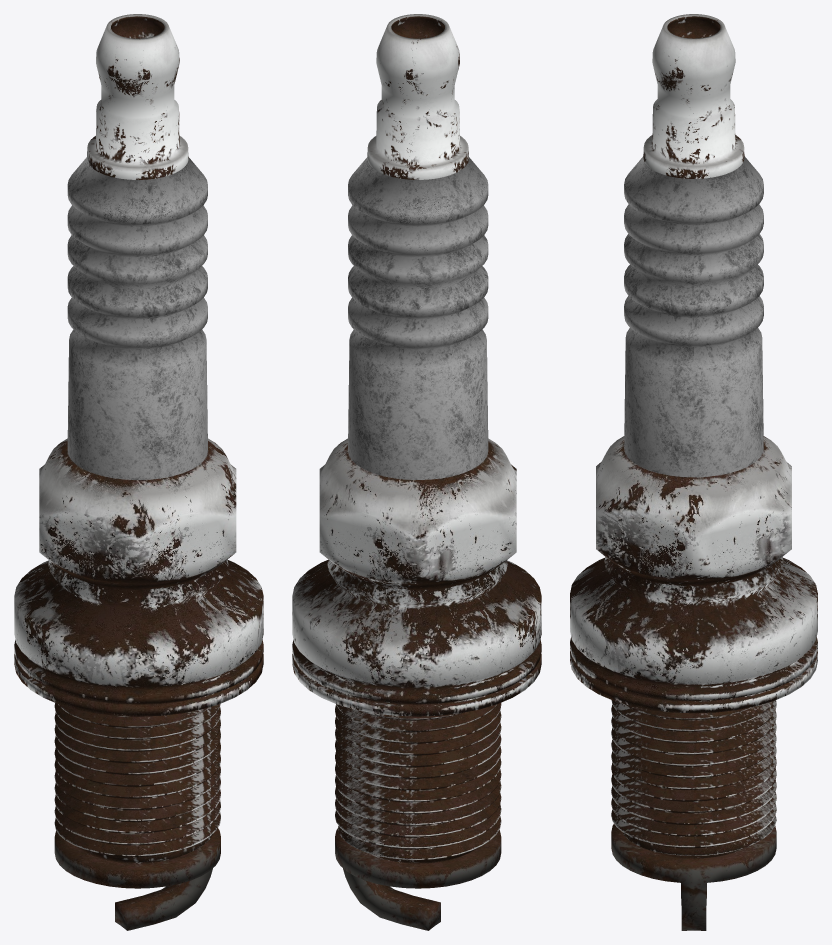
Rendered from plug_barbados.glb.
3 views of the same model, side by side, from view 1: azimuth 30°, elevation 25°; view 2: azimuth 150°, elevation 25°; view 3: azimuth 270°, elevation 25° (orthographic).
Visible parts, largest first — view 1: Object_3, Object_2, Object_6, Object_4, Object_5; view 2: Object_3, Object_2, Object_6, Object_4, Object_5; view 3: Object_3, Object_2, Object_6, Object_4, Object_5.
Part boxes in pixels (x1=…): Object_3: x1=14, y1=438, x2=263, y2=716; Object_2: x1=67, y1=157, x2=207, y2=479; Object_6: x1=54, y1=703, x2=220, y2=863; Object_4: x1=87, y1=14, x2=188, y2=179; Object_5: x1=54, y1=828, x2=220, y2=930; Object_3: x1=292, y1=438, x2=541, y2=716; Object_2: x1=348, y1=157, x2=488, y2=479; Object_6: x1=335, y1=703, x2=501, y2=863; Object_4: x1=367, y1=14, x2=468, y2=179; Object_5: x1=335, y1=828, x2=501, y2=930; Object_3: x1=570, y1=436, x2=817, y2=713; Object_2: x1=624, y1=156, x2=763, y2=477; Object_6: x1=611, y1=700, x2=776, y2=858; Object_4: x1=643, y1=14, x2=744, y2=178; Object_5: x1=611, y1=824, x2=776, y2=930.
Bounding box in the file's own units: 0.708 × 2.8 × 0.7081.
Materials: 5 (5 with a texture image).
